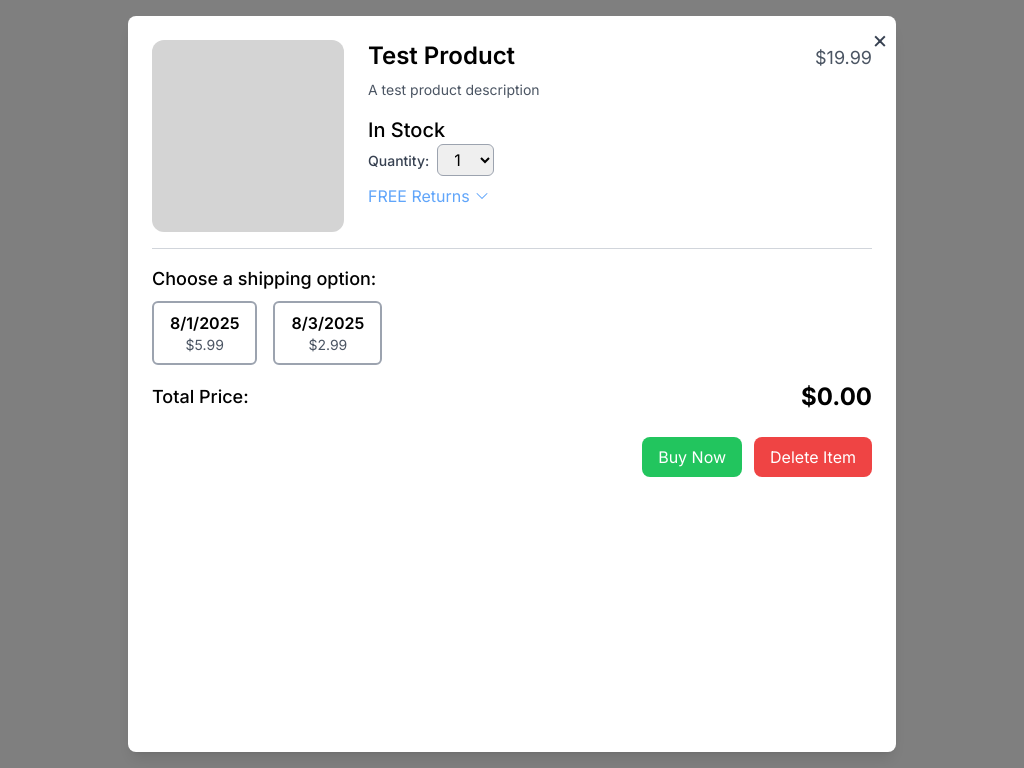
CartModal › shows shipping banner when no shipping option is selected
This screenshot has width=1024, height=768.
Click the button "Buy Now".
click(692, 457)  # box 642,437 -> 742,477
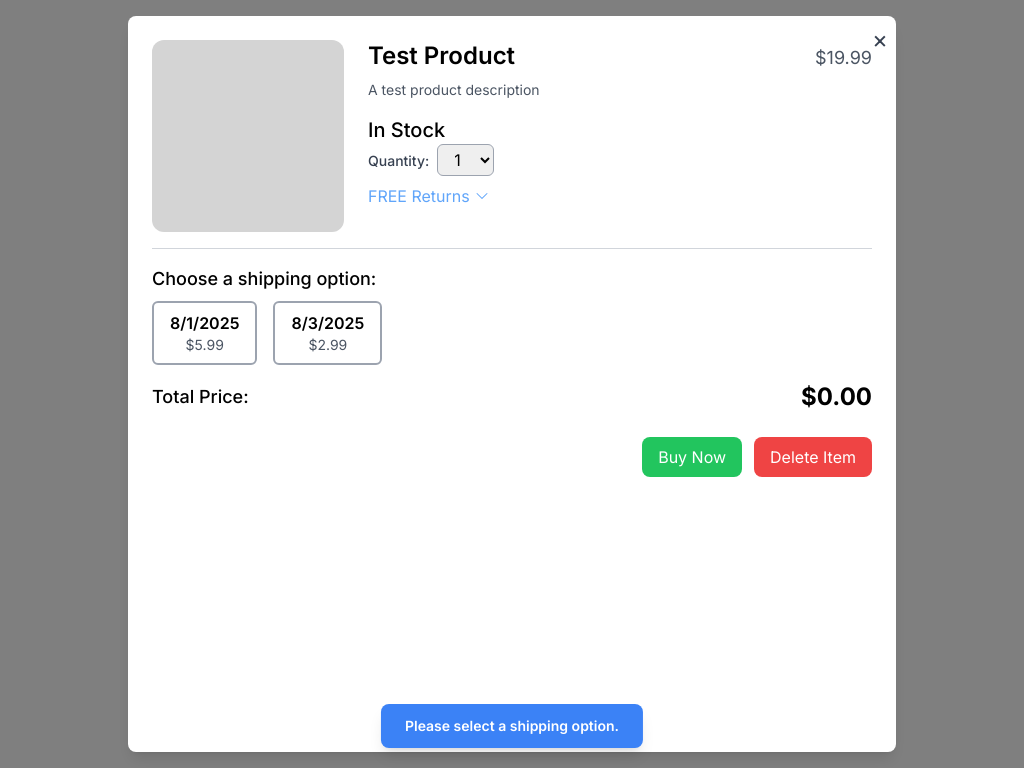
Result: the text "Please select a shipping option." is shown at 405,716 -> 619,736
